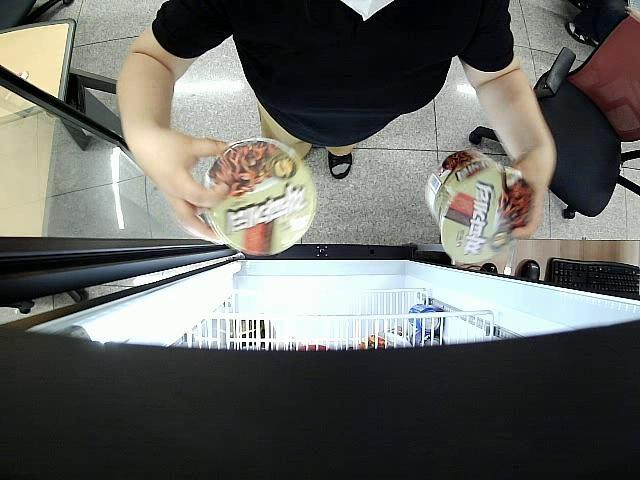03_chapagetti_L: (206, 139, 317, 254), (426, 152, 532, 262)
